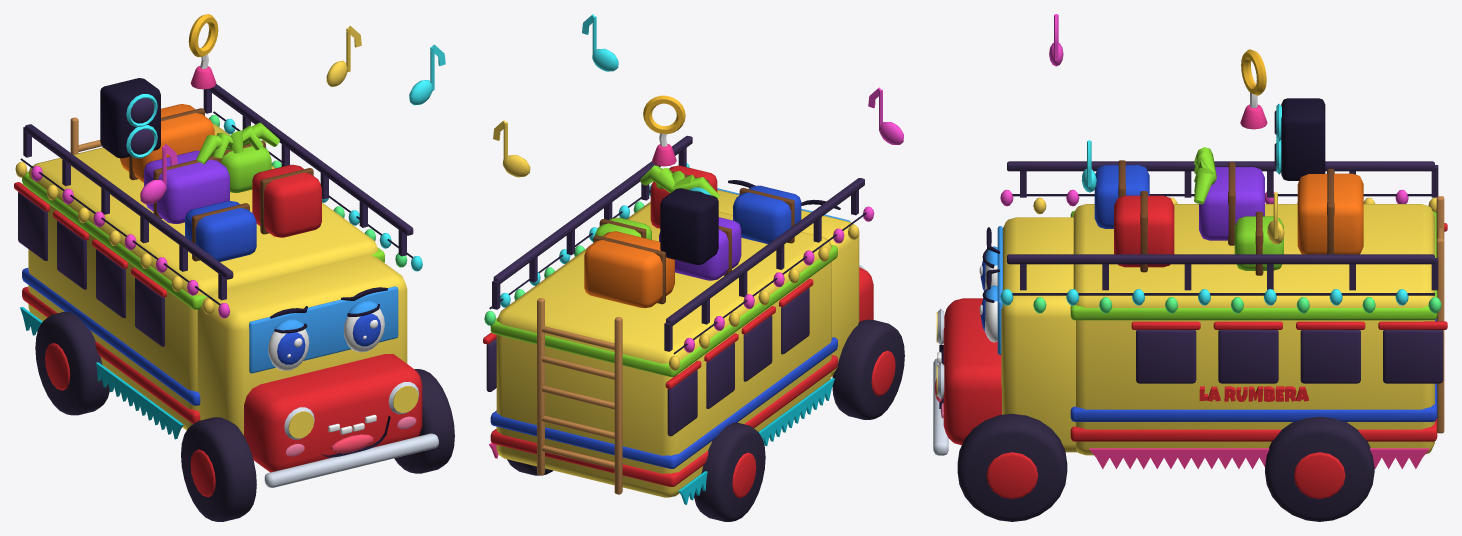
The model's file is chivita_rumbera.fbx.
3 renders of one model, left to right at view 1: azimuth 30°, elevation 25°; view 2: azimuth 150°, elevation 25°; view 3: azimuth 270°, elevation 25°, orthographic. The views are drawn at different scales.
Parts seen in each view (by area): view 1: chivita_rumbera, chivita_rumbera_Neon; view 2: chivita_rumbera, chivita_rumbera_Neon; view 3: chivita_rumbera, chivita_rumbera_Neon.
Boxes of the visible parts, <box> form: chivita_rumbera: <box>14,14,454,521</box>; chivita_rumbera_Neon: <box>15,26,445,318</box>; chivita_rumbera: <box>483,95,904,521</box>; chivita_rumbera_Neon: <box>484,14,903,370</box>; chivita_rumbera: <box>933,49,1447,521</box>; chivita_rumbera_Neon: <box>1000,14,1441,313</box>.
Bounding box in the file's own units: 3.61 × 4.17 × 4.69.
2 materials, 2 textured.
